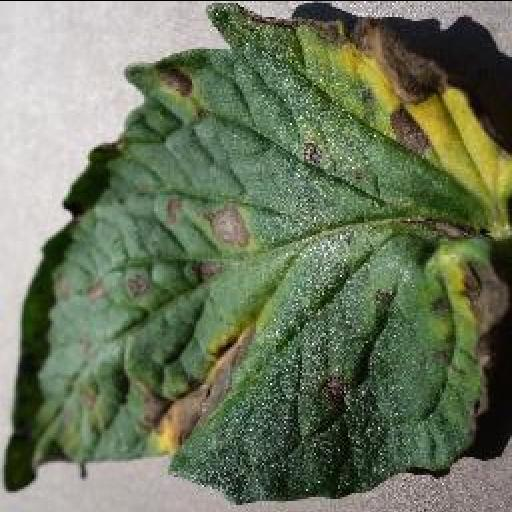disease_tomato: (6, 0, 512, 498)
